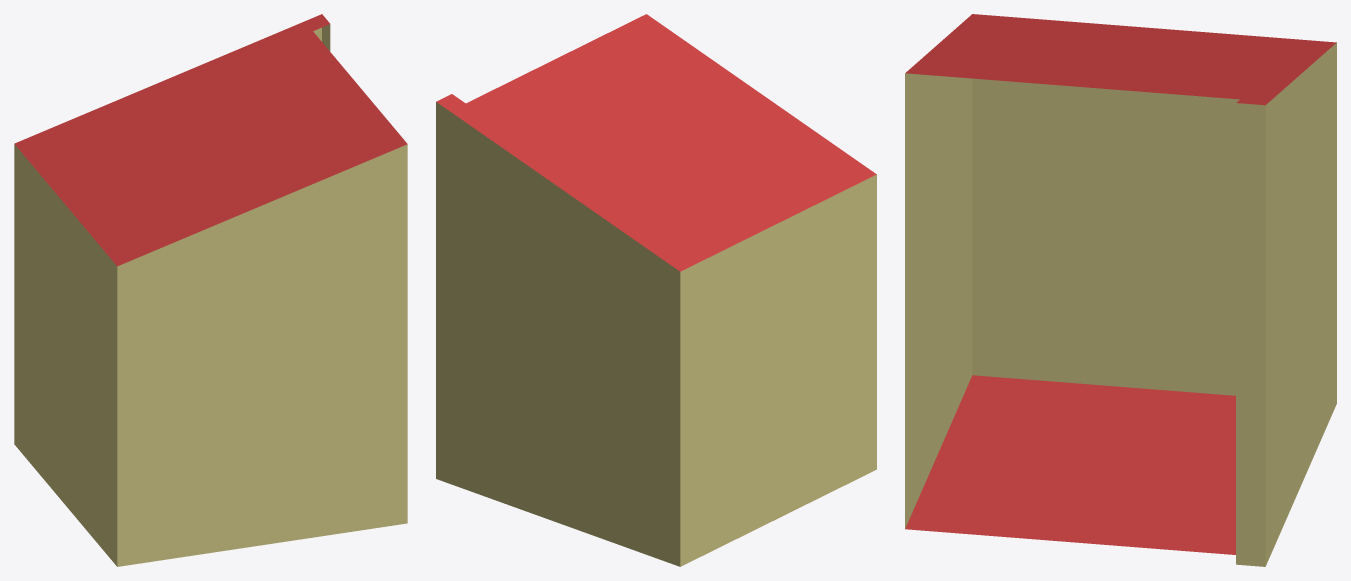
3 views of the same model, side by side, from view 1: azimuth 30°, elevation 25°; view 2: azimuth 150°, elevation 25°; view 3: azimuth 270°, elevation 25° (orthographic). The views are drawn at different scales.
Visible parts, largest first — view 1: group_4, group_3; view 2: group_4, group_3; view 3: group_4, group_5, group_3.
Part boxes in pixels (x1=…): group_4: x1=14, y1=24, x2=407, y2=566; group_3: x1=14, y1=14, x2=407, y2=266; group_4: x1=436, y1=102, x2=876, y2=566; group_3: x1=436, y1=14, x2=876, y2=271; group_4: x1=905, y1=43, x2=1336, y2=566; group_5: x1=905, y1=375, x2=1235, y2=554; group_3: x1=905, y1=14, x2=1336, y2=105.
Size of the model in its own units: 10.38 by 9.88 by 11.66.
